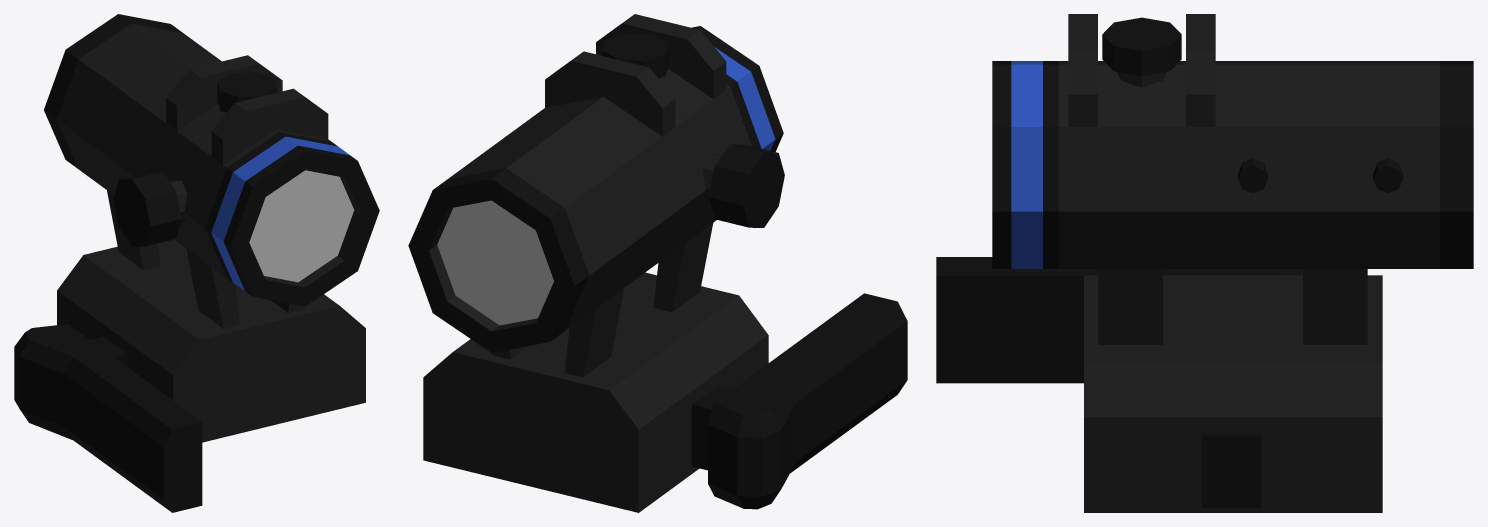
File: scene_I2tI0p9oGB.glb
3 views of the same model, side by side, from view 1: azimuth 30°, elevation 25°; view 2: azimuth 150°, elevation 25°; view 3: azimuth 270°, elevation 25° (orthographic). The views are drawn at different scales.
Parts seen in each view (by area): view 1: RedDot_West; view 2: RedDot_West; view 3: RedDot_West.
Part boxes in pixels (x1,y1,x2,y2): RedDot_West: (14,14,379,512); RedDot_West: (408,14,907,512); RedDot_West: (936,14,1473,512).
Bounding box in the file's own units: 0.0434 × 0.0491 × 0.0557.
